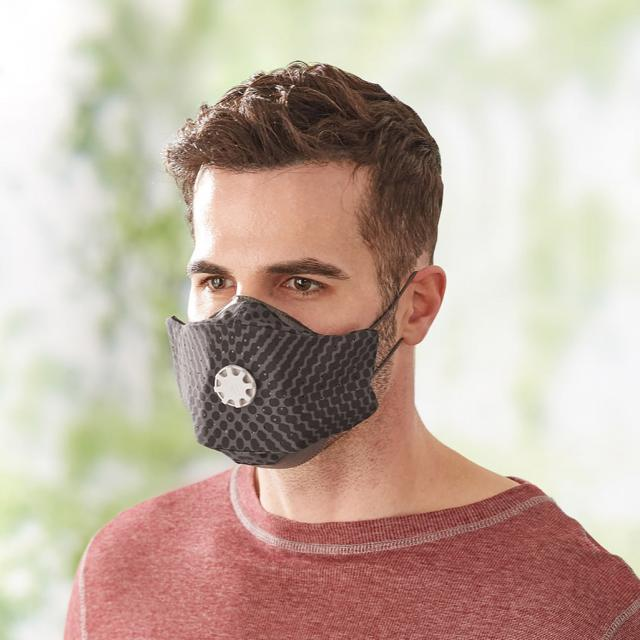1_mascarilla: (186, 301, 404, 466)
